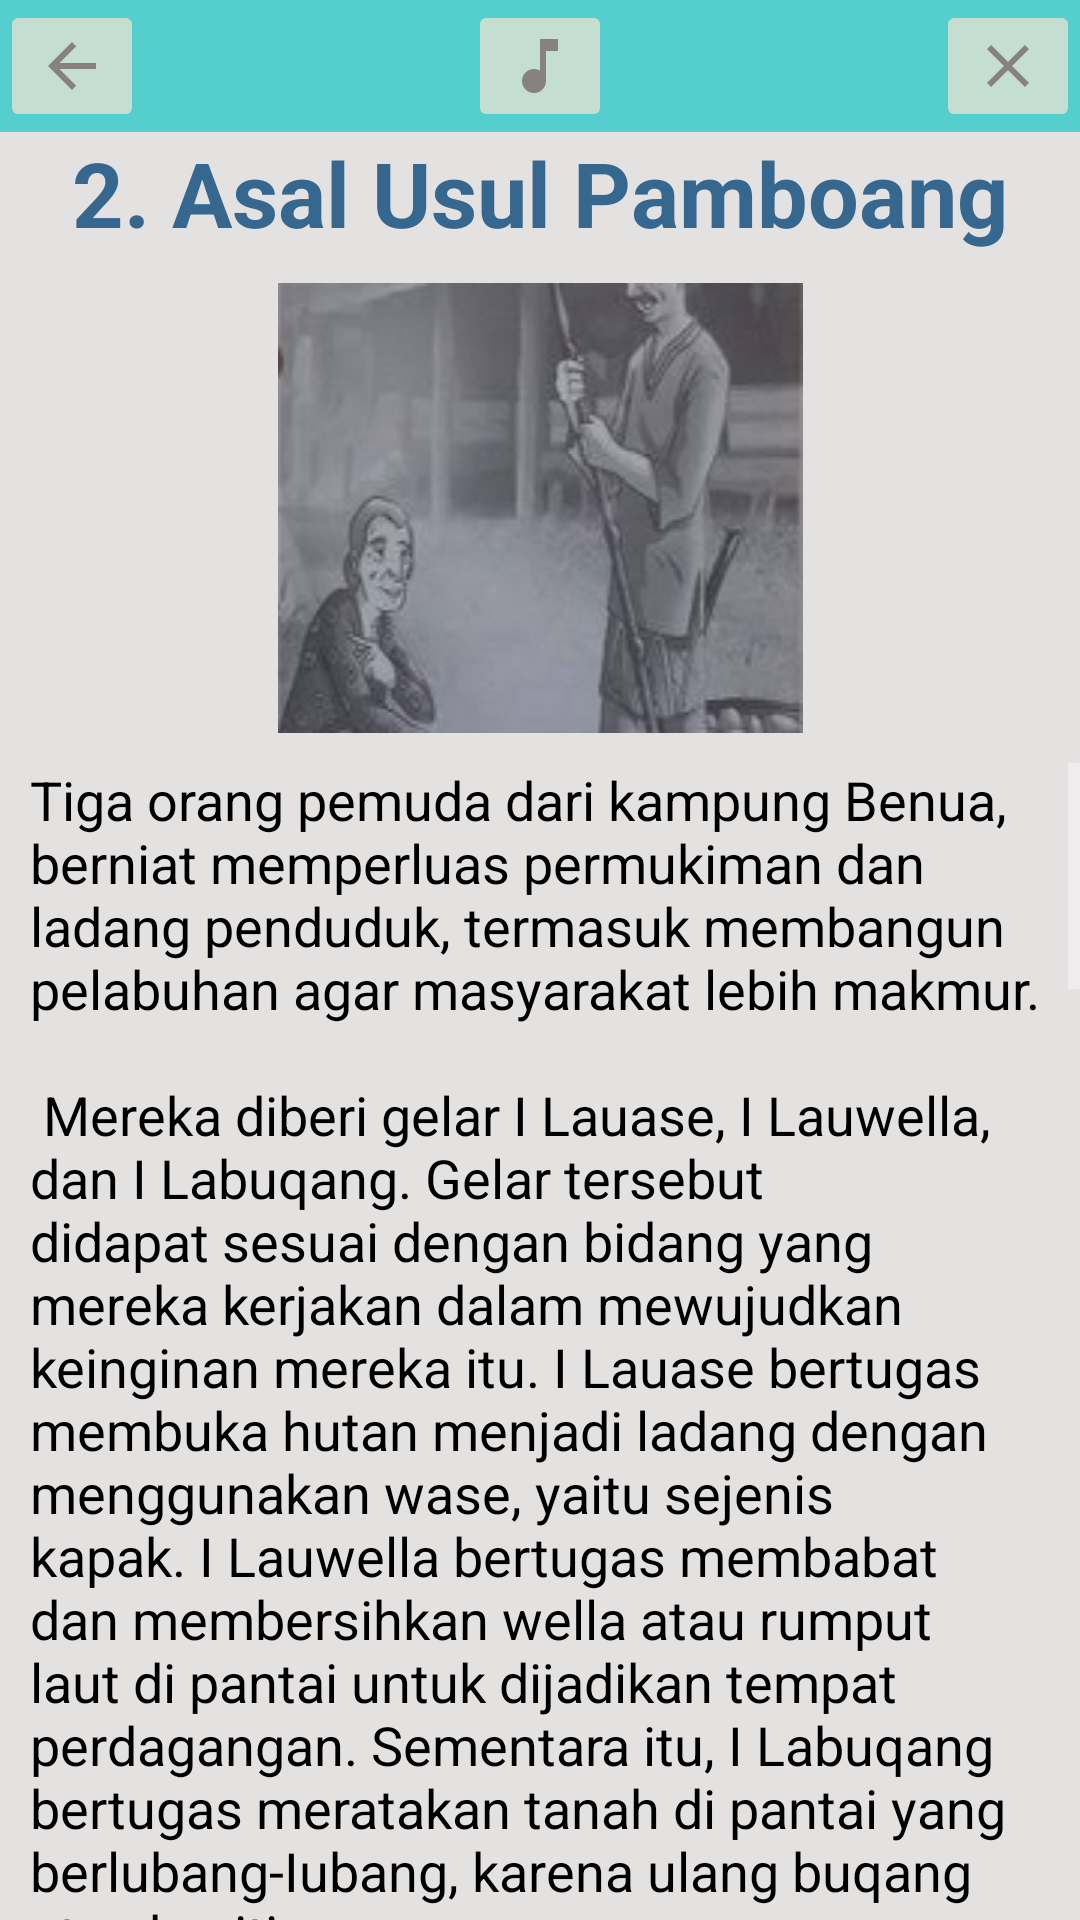

Named icons in this screenshot (1080*1920) and their centers, [x,y]:
arrow back: [72,66]
close: [1008,66]
music note: [540,66]
